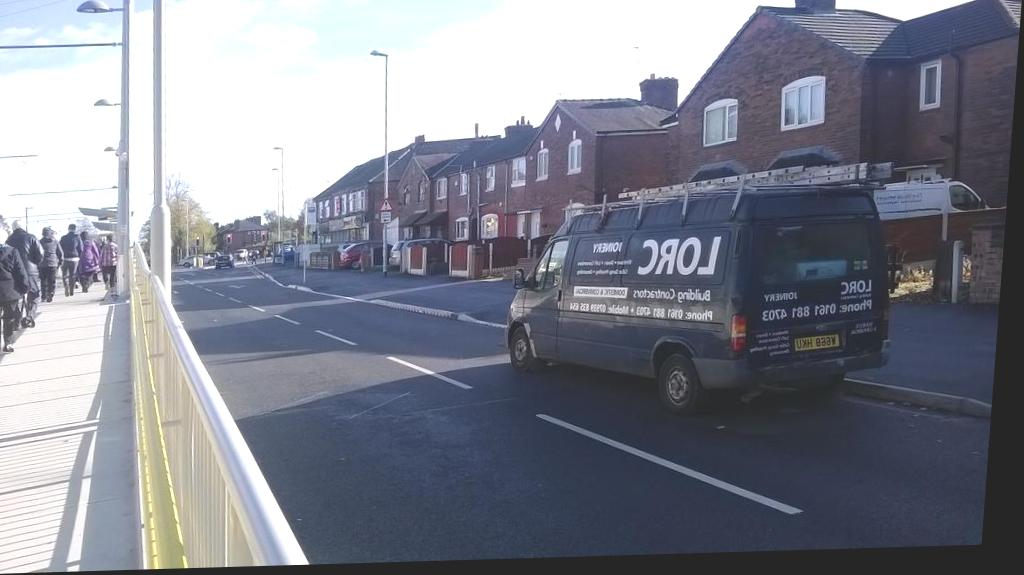License_Plate: (793, 332, 841, 354)
